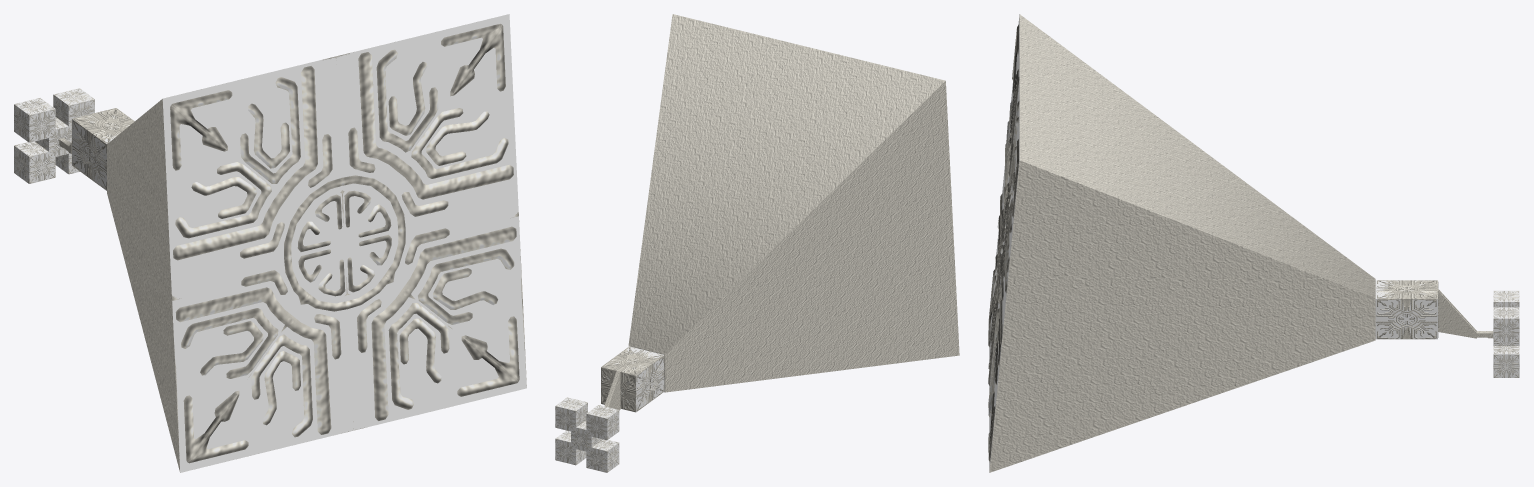
Rendered from f_ground.fbx.
3 renders of one model, left to right at view 1: azimuth 30°, elevation 25°; view 2: azimuth 150°, elevation 25°; view 3: azimuth 270°, elevation 25°, orthographic. The views are drawn at different scales.
Visible parts, largest first — view 1: f_groundaura, f_grounddetail; view 2: f_groundaura, f_grounddetail; view 3: f_groundaura, f_grounddetail.
Part boxes in pixels (x1,y1,x2,y2): f_groundaura: (14, 14, 526, 472); f_grounddetail: (14, 23, 526, 472); f_groundaura: (555, 14, 959, 472); f_grounddetail: (555, 347, 664, 472); f_groundaura: (989, 14, 1519, 472); f_grounddetail: (988, 24, 1519, 462).
Bounding box in the file's own units: 2636 × 2626 × 4046.
Materials: 3 (3 with a texture image).
